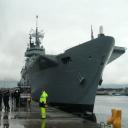Portanaves: (19, 13, 128, 117)
